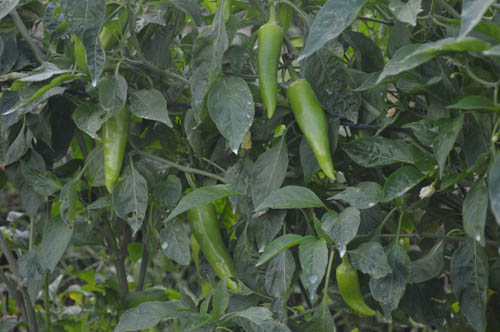ChiliPepper: (290, 79, 340, 178), (193, 202, 233, 279), (255, 24, 287, 119), (101, 105, 132, 191), (338, 268, 379, 316)
